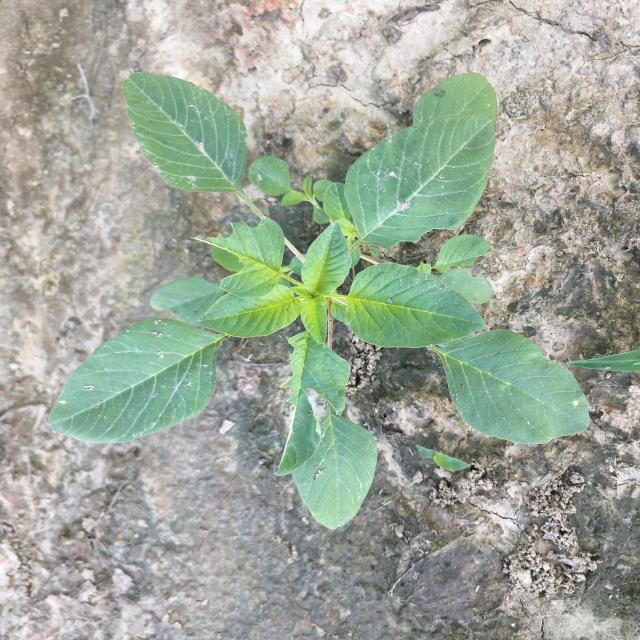PalmerAmaranth: (48, 71, 590, 530)
